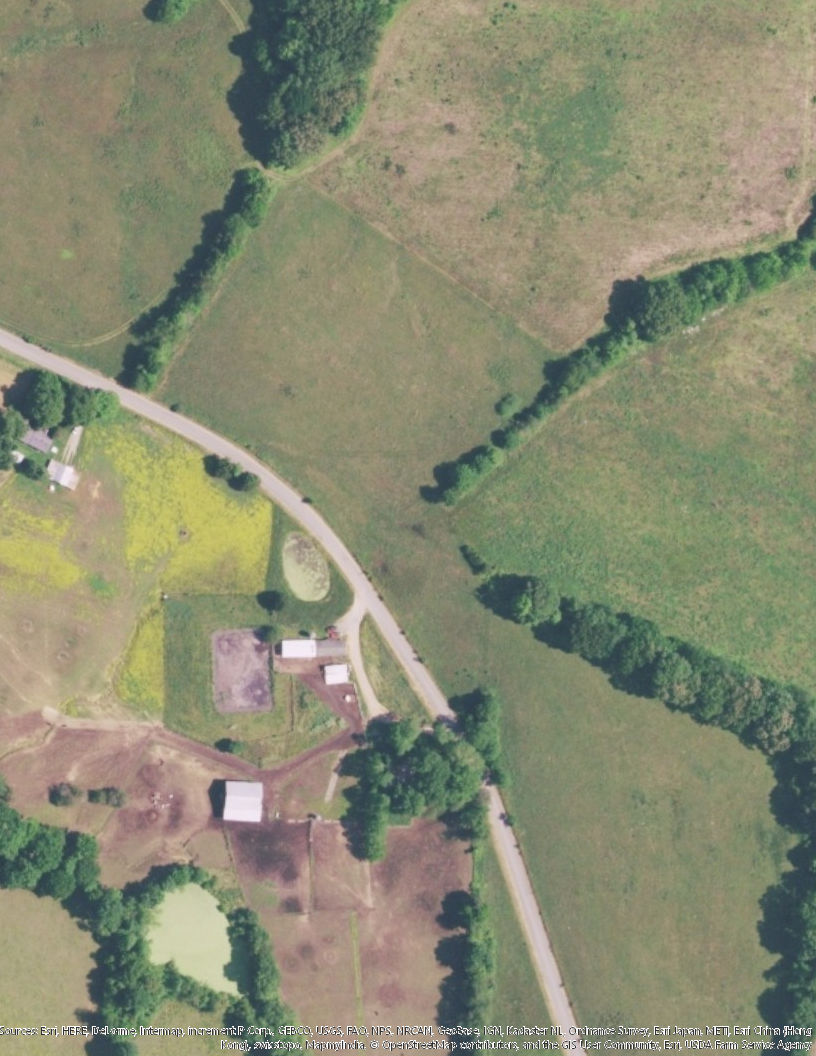cafo: (274, 633, 356, 685)
